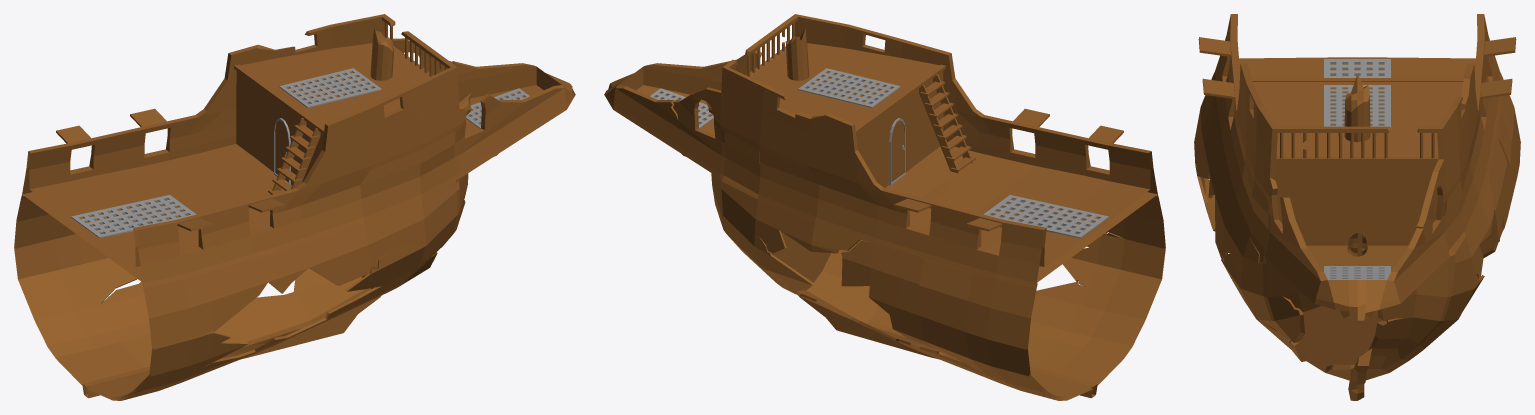
File: Ship front part.fbx
3 renders of one model, left to right at view 1: azimuth 30°, elevation 25°; view 2: azimuth 150°, elevation 25°; view 3: azimuth 270°, elevation 25°, orthographic. The views are drawn at different scales.
Parts seen in each view (by area): view 1: Cube.007; view 2: Cube.007; view 3: Cube.007.
Boxes of the visible parts, <box> form: Cube.007: <box>14,14,575,400</box>; Cube.007: <box>604,14,1165,400</box>; Cube.007: <box>1194,14,1520,400</box>.
Size of the model in its own units: 113 by 65.65 by 55.44.
